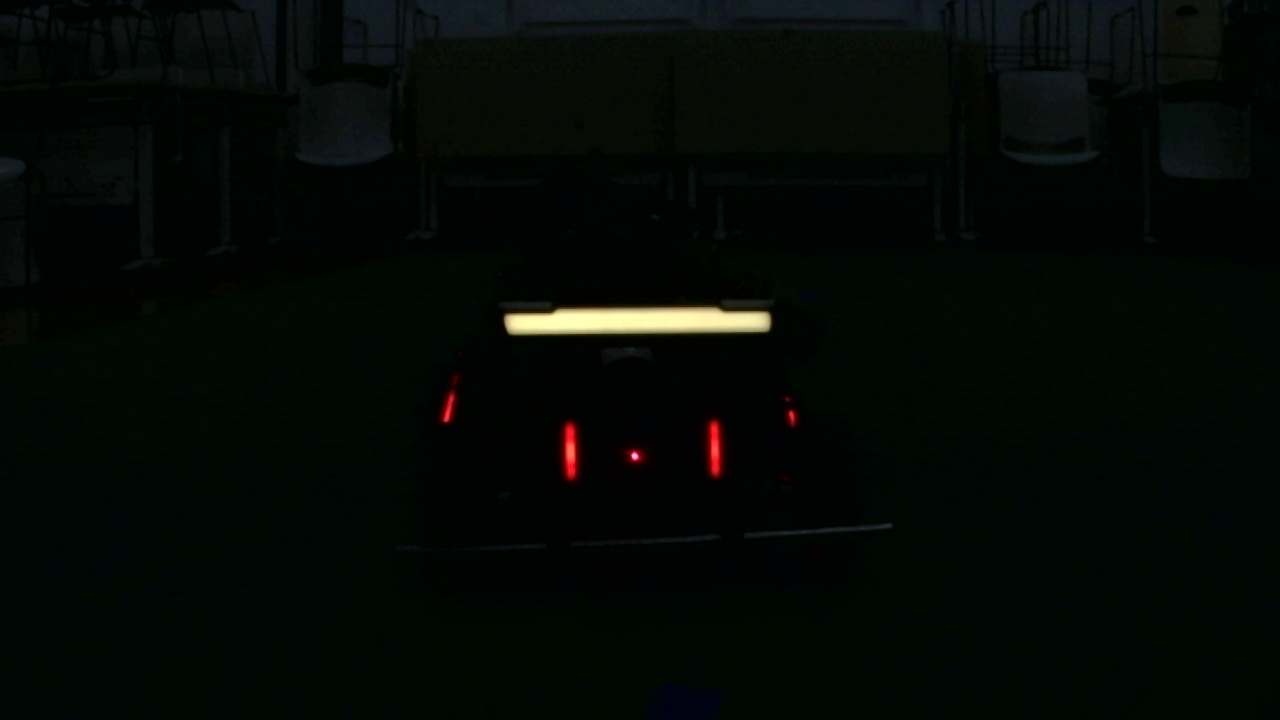lamp: (561, 415, 580, 487), (705, 413, 719, 485)
pair1: (558, 418, 724, 486)
